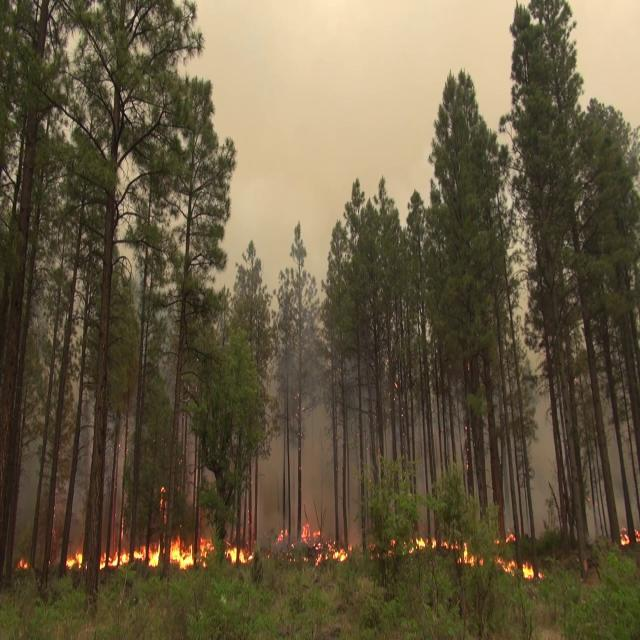Fire: (135, 526, 201, 573), (497, 532, 539, 582), (418, 530, 473, 564), (324, 536, 354, 566), (98, 540, 130, 568), (226, 534, 252, 568), (63, 543, 85, 575), (298, 521, 322, 547)
Smoke: (252, 352, 374, 552)
